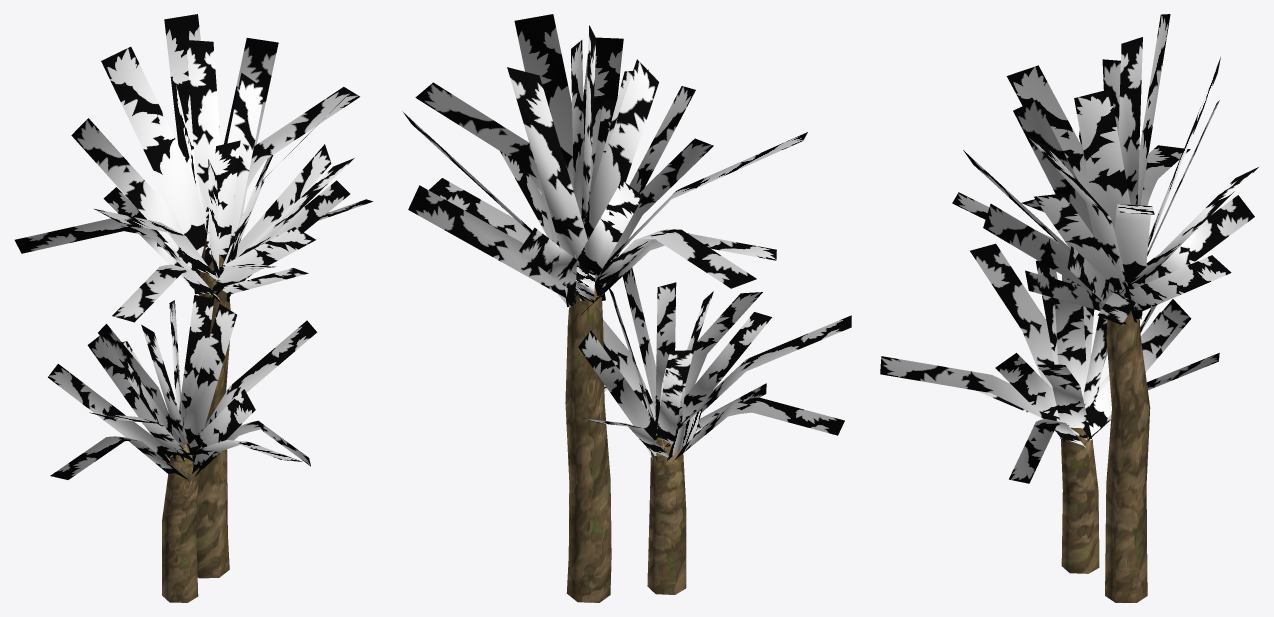
File: P_YuccaTree02.obj
3 views of the same model, side by side, from view 1: azimuth 30°, elevation 25°; view 2: azimuth 150°, elevation 25°; view 3: azimuth 270°, elevation 25° (orthographic). The views are drawn at different scales.
Size of the model in its own units: 1.78 by 2.58 by 1.6.
